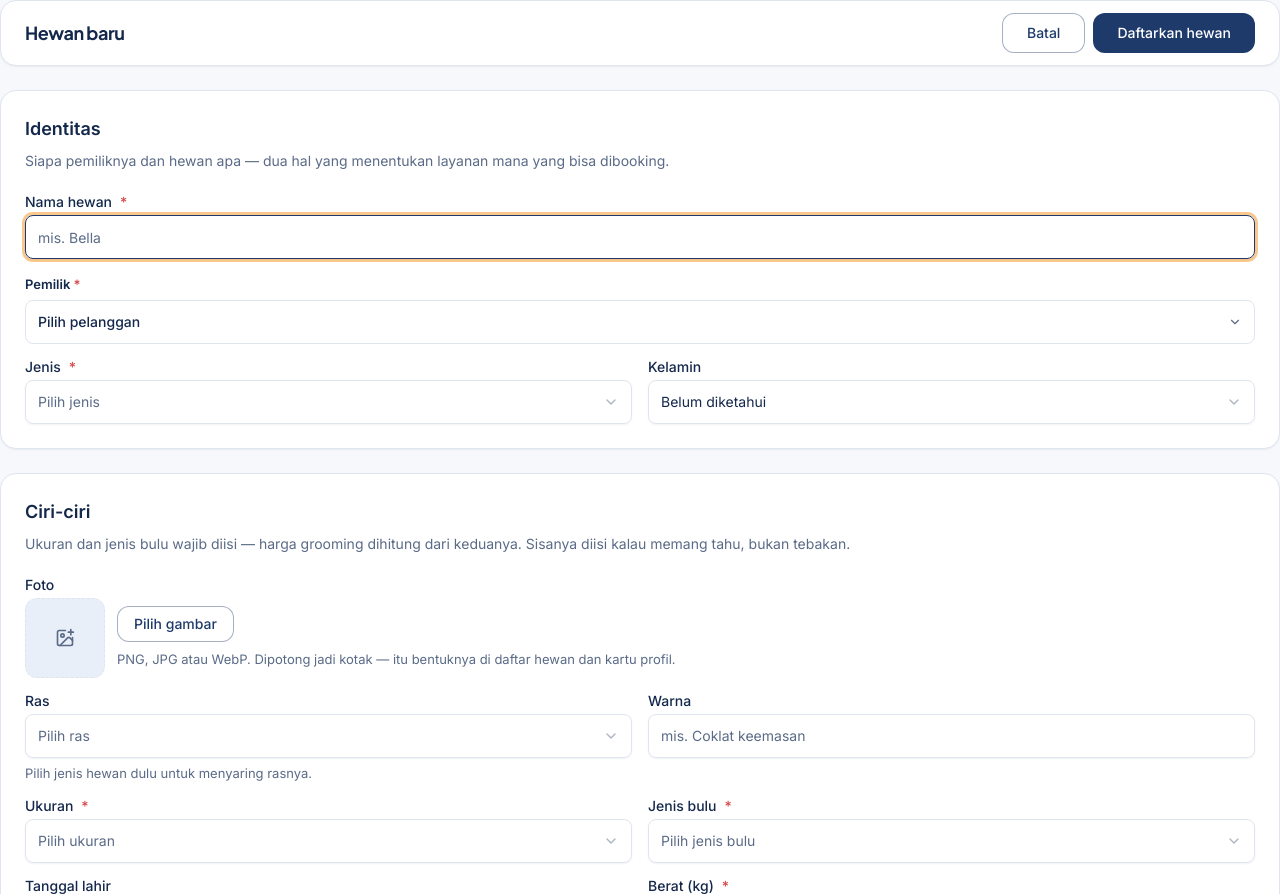
it: PetForm — registering › refuses to submit without a name, an owner and a species
Click the button "Daftarkan hewan". click: coordinates (1174, 33)
box: [1093,13,1255,53]
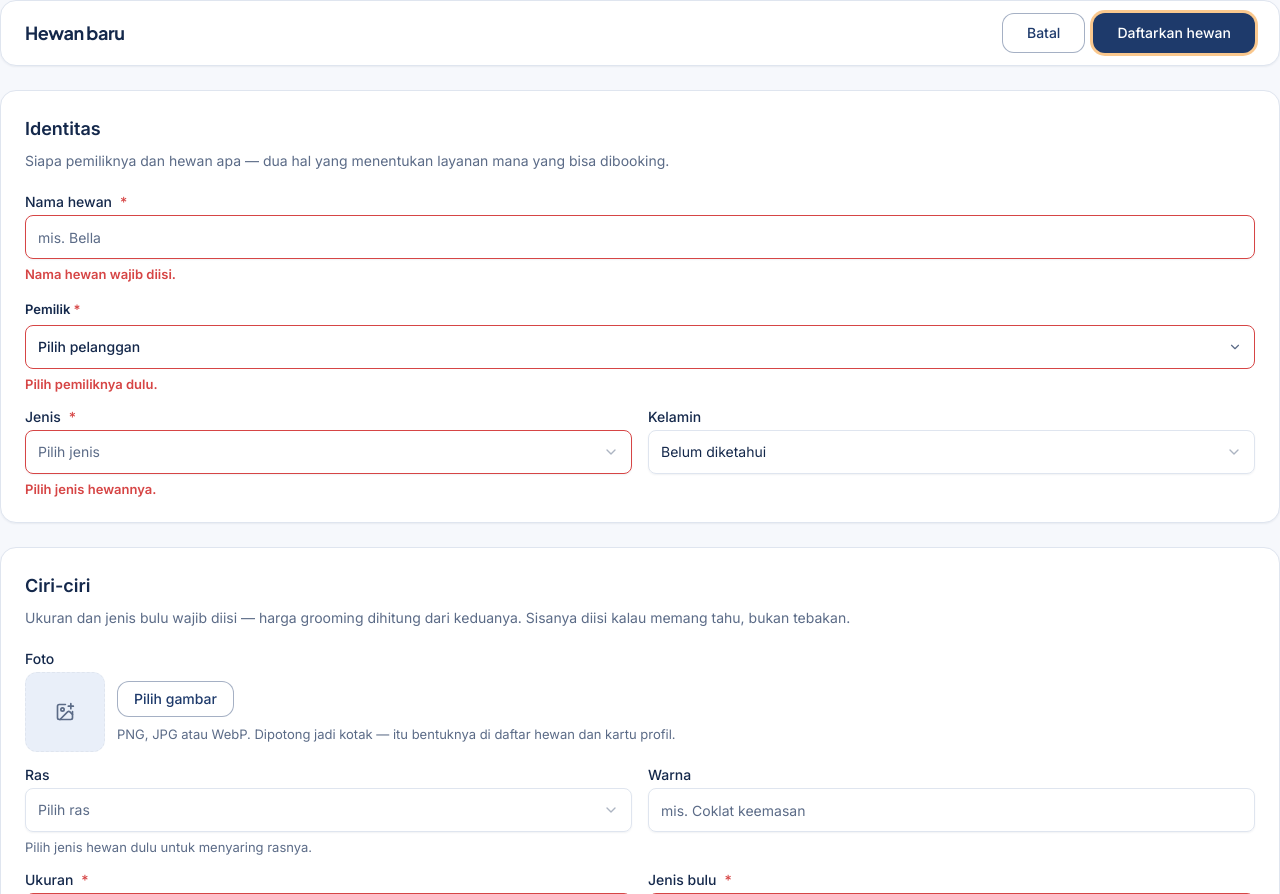
Expected: the text "Nama hewan wajib diisi." is shown, [25,266,176,282]
Expected: the text "Pilih pemiliknya dulu." is shown, [25,376,158,392]
Expected: the text "Pilih jenis hewannya." is shown, [25,480,156,496]
